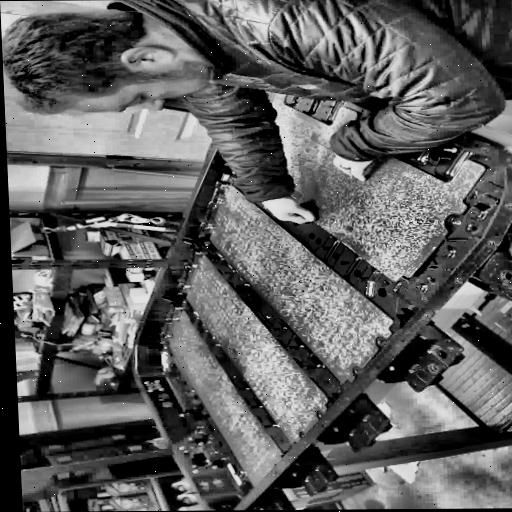b_casing: (132, 78, 512, 511)
